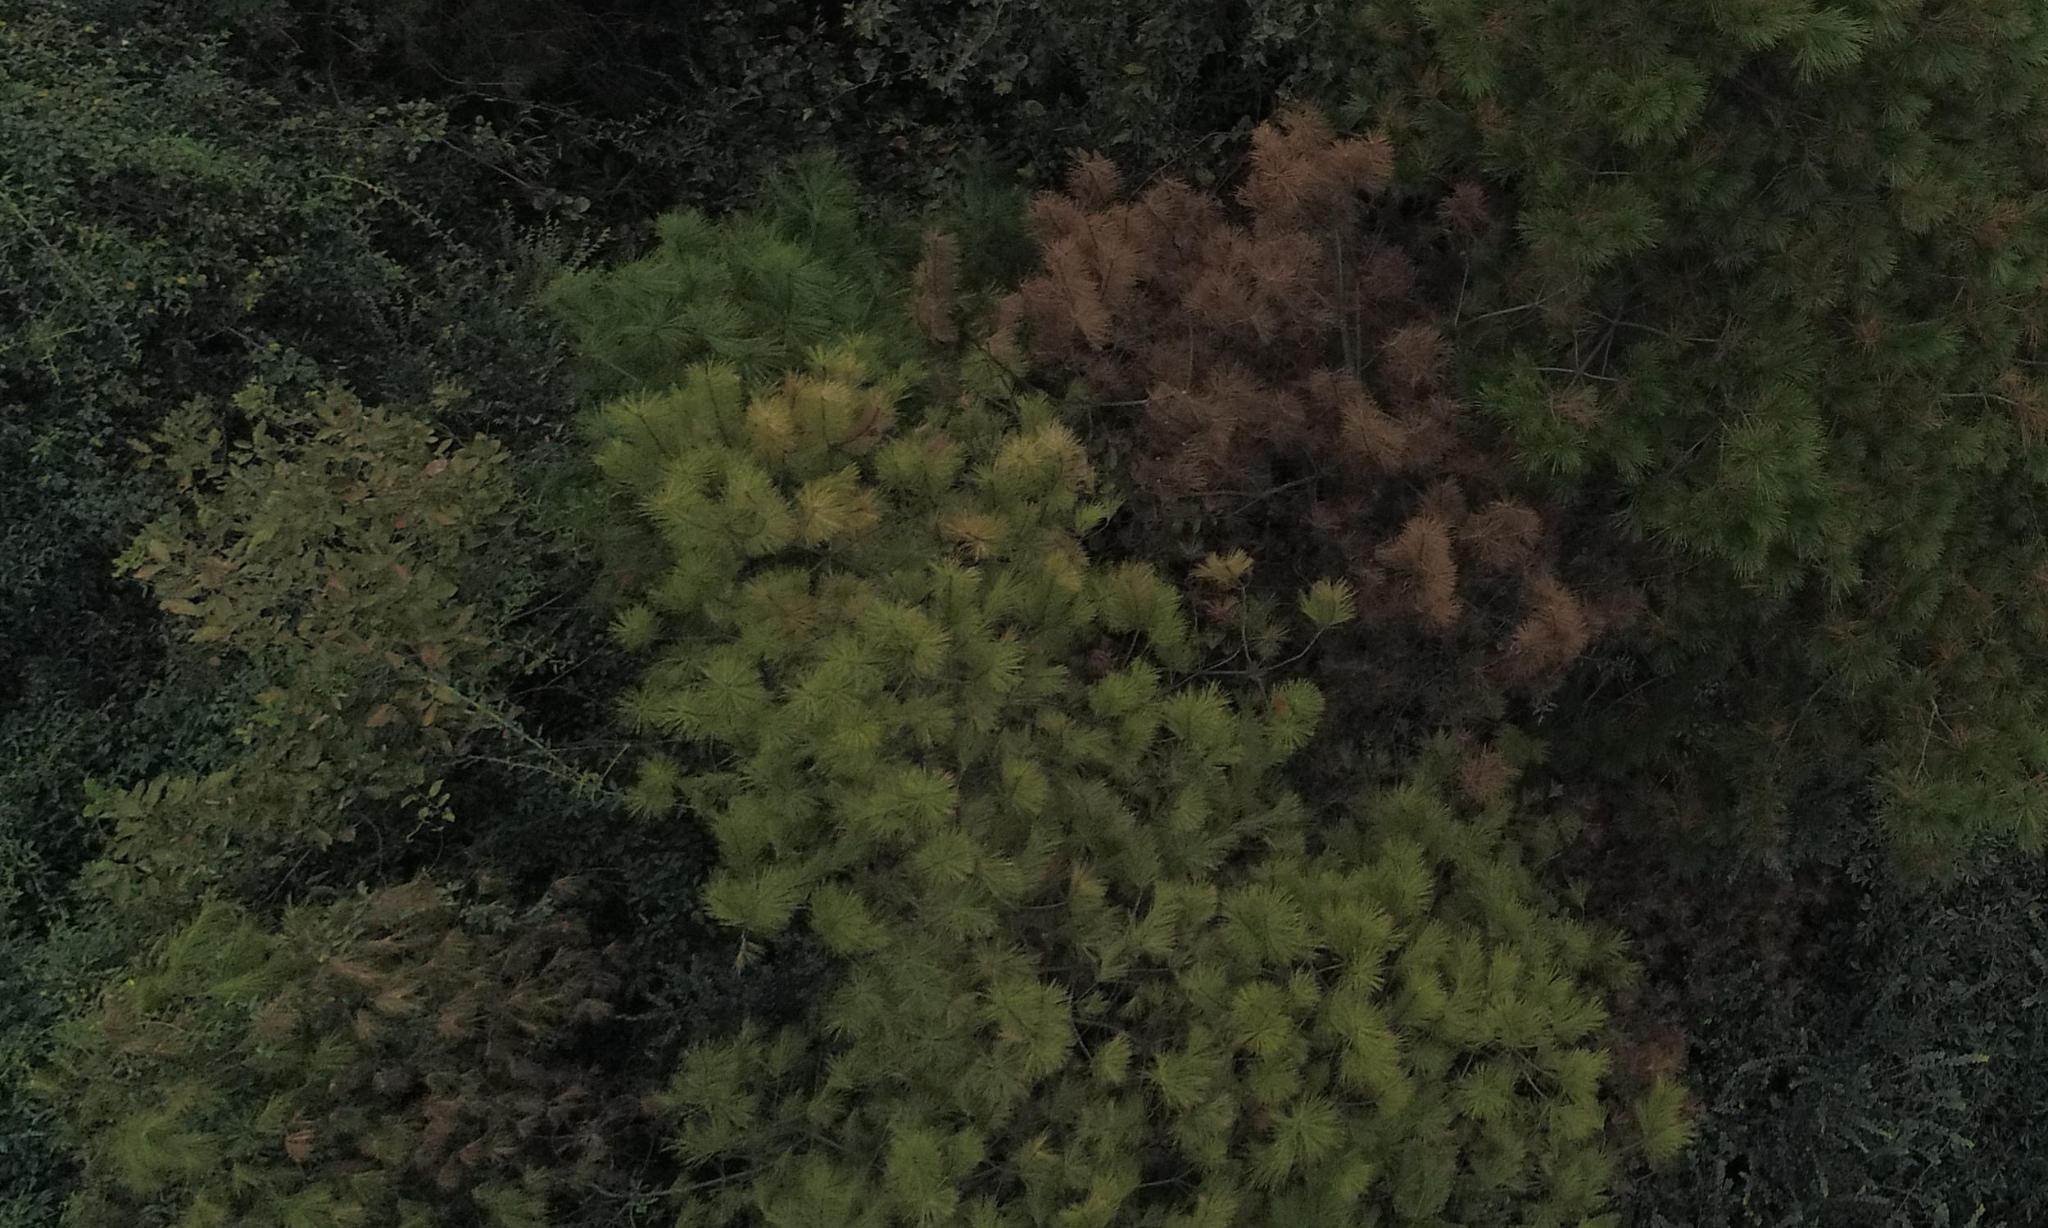heavy: (997, 111, 1579, 667)
light: (607, 374, 971, 985)
